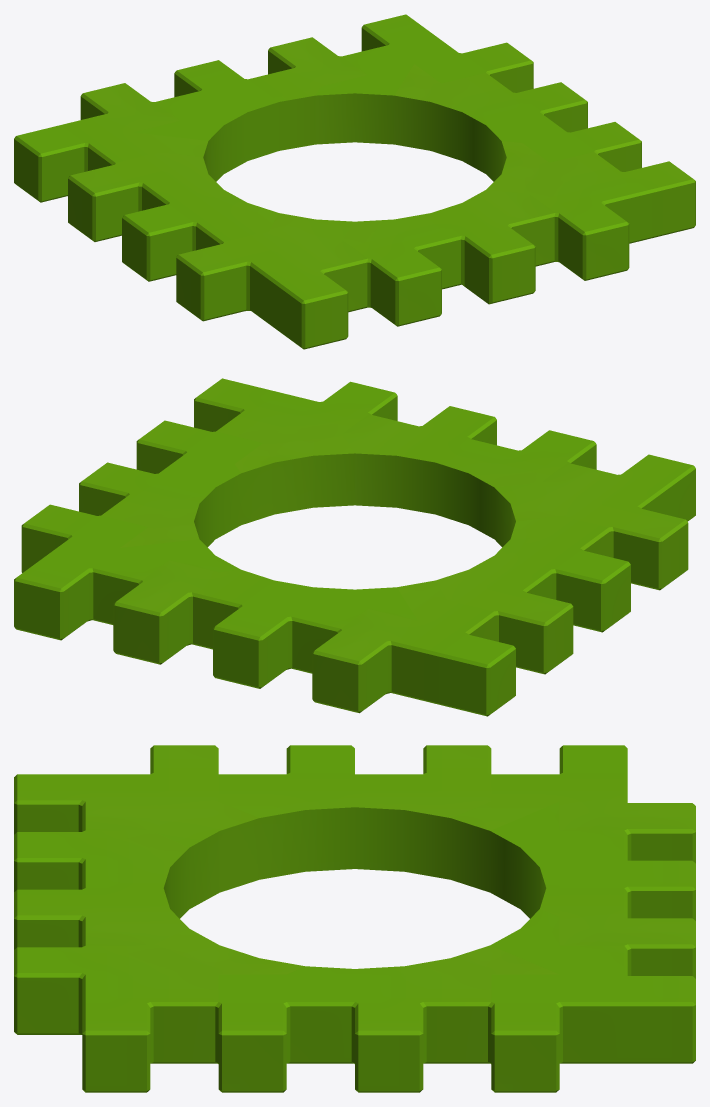
The model's file is GreenHole.fbx.
3 renders of one model, top to bottom at view 1: azimuth 30°, elevation 25°; view 2: azimuth 150°, elevation 25°; view 3: azimuth 270°, elevation 25°, orthographic. The views are drawn at different scales.
Parts seen in each view (by area): view 1: BlueSquareHole; view 2: BlueSquareHole; view 3: BlueSquareHole.
Boxes of the visible parts, x1,y1,x2,y2 form: BlueSquareHole: (14, 14, 695, 349); BlueSquareHole: (14, 378, 695, 716); BlueSquareHole: (14, 745, 695, 1092).
Bounding box in the file's own units: 5 × 0.4999 × 5.
